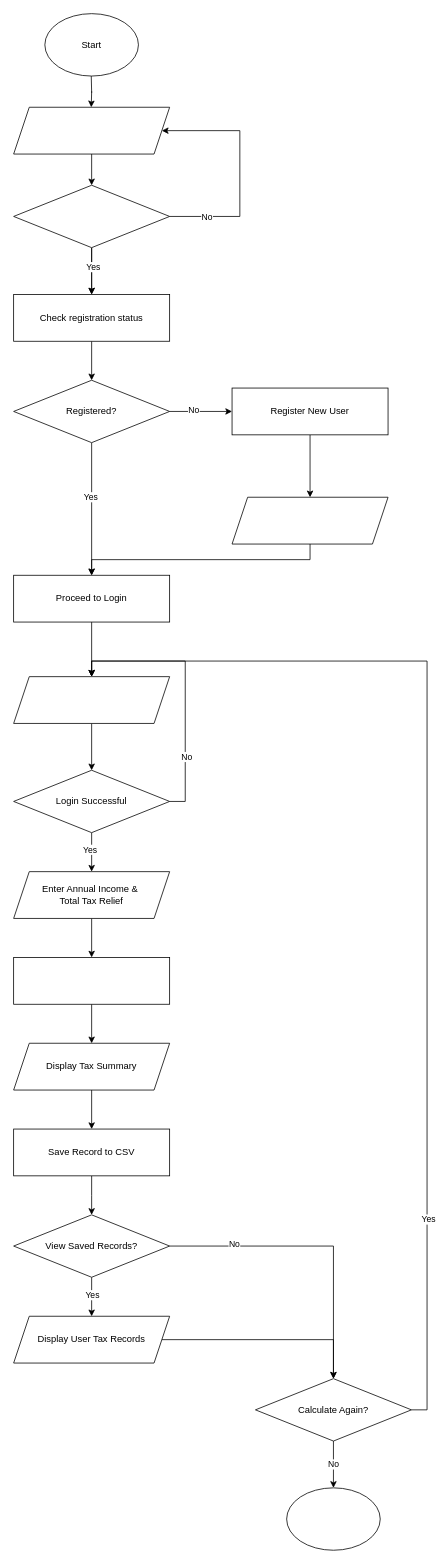
Some shapes in this 448 by 1564 pixel diagram are drawn without their labels. Here are the shapes that lost their labels. From the top down, the centre of each, then its label:
(91,130): Enter IC Number
(91,216): Validate IC Format
(309,520): Create UserID, Password
(91,699): Enter UserID, Password
(91,980): Calculate Tax (Based on Tax Brackets)
(333,1518): End
